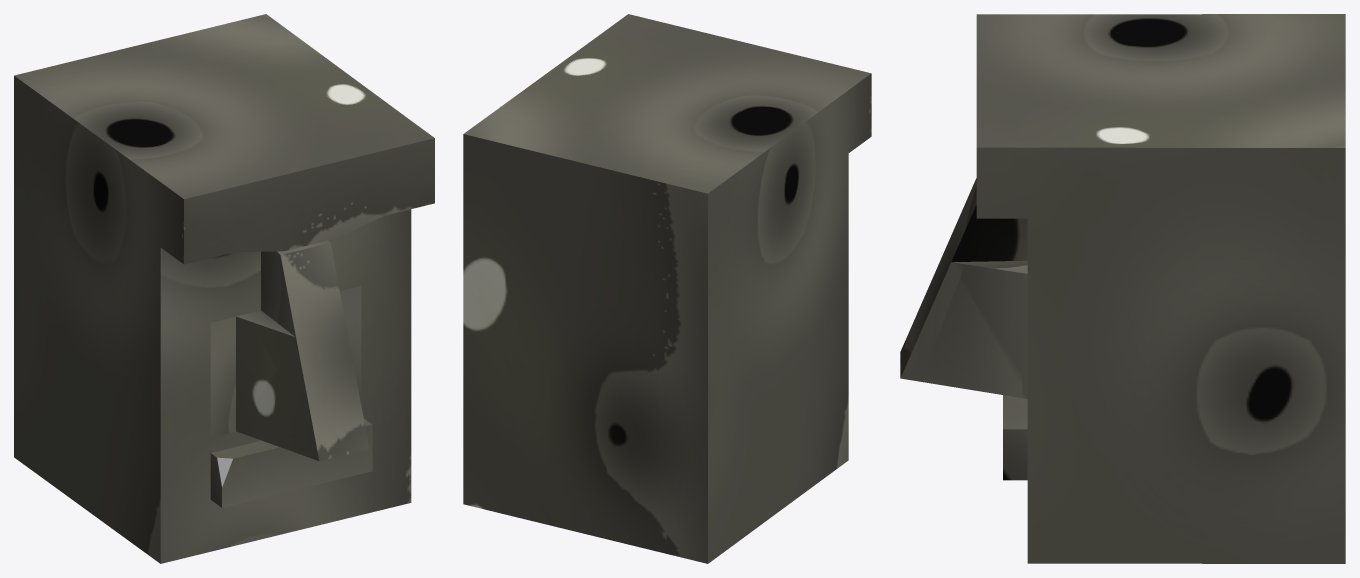
The model's file is headShattered.fbx.
The picture shows the model from 3 angles, left to right: view 1: azimuth 30°, elevation 25°; view 2: azimuth 150°, elevation 25°; view 3: azimuth 270°, elevation 25°; orthographic projection. The views are drawn at different scales.
Visible parts, largest first — view 1: shard11, shard1, shard3, shard8, shard10, shard4, shard12, shard6, shard5, shard9; view 2: shard3, shard1, shard4, shard7, shard6, shard11, shard5, shard8, shard10; view 3: shard1, shard5, shard6, shard7, shard8, shard11, shard3, shard10, shard9, shard12.
Part boxes in pixels (x1,y1,x2,y2): shard11: [124, 149, 348, 505]; shard1: [96, 14, 434, 283]; shard3: [14, 55, 130, 394]; shard8: [121, 288, 372, 563]; shard10: [124, 145, 390, 550]; shard4: [14, 309, 123, 535]; shard12: [253, 247, 348, 461]; shard6: [327, 357, 411, 522]; shard5: [338, 270, 411, 403]; shard9: [328, 138, 434, 226]; shard3: [526, 112, 816, 420]; shard1: [463, 14, 813, 181]; shard4: [566, 292, 813, 563]; shard7: [463, 256, 643, 466]; shard6: [463, 444, 704, 562]; shard11: [712, 34, 871, 402]; shard5: [463, 153, 617, 305]; shard8: [811, 291, 848, 487]; shard10: [672, 24, 848, 446]; shard1: [976, 16, 1345, 309]; shard5: [1019, 169, 1345, 456]; shard6: [1009, 347, 1345, 563]; shard7: [1131, 342, 1345, 521]; shard8: [920, 232, 1027, 480]; shard11: [976, 14, 1100, 101]; shard3: [1100, 14, 1345, 57]; shard10: [900, 70, 1048, 381]; shard9: [975, 100, 1027, 245]; shard12: [900, 178, 976, 366].
Bounding box in the file's own units: 2.67 × 3.86 × 3.74.
